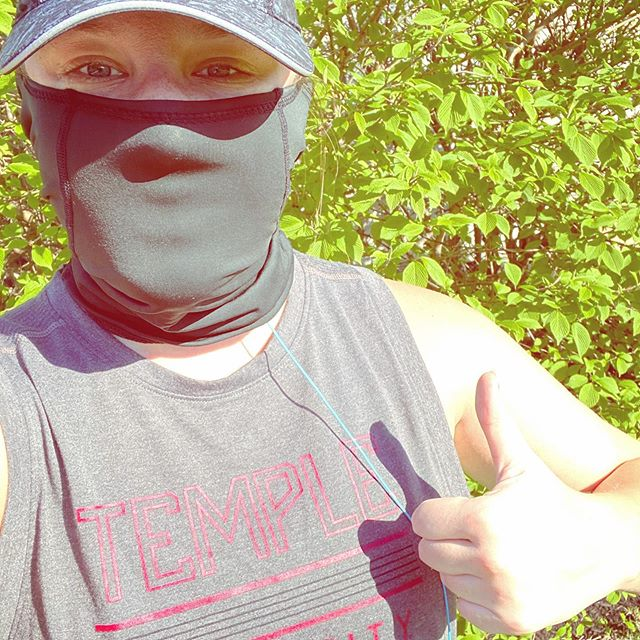homemade: (12, 68, 343, 337)
